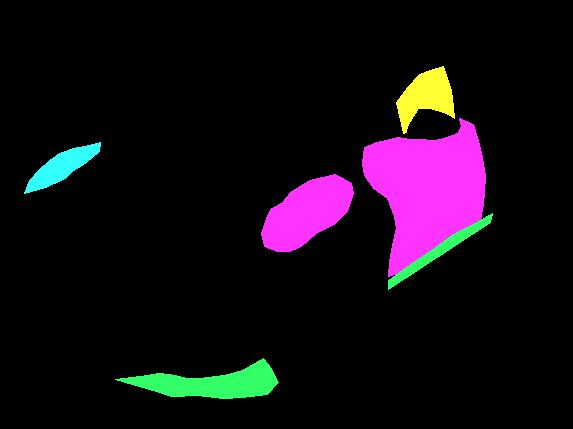Broken part: (388, 213, 492, 289), (115, 358, 278, 398)
Cracked: (396, 66, 454, 133)
Dent: (362, 118, 485, 276), (261, 174, 353, 251)
Flaking: (24, 142, 100, 193)
